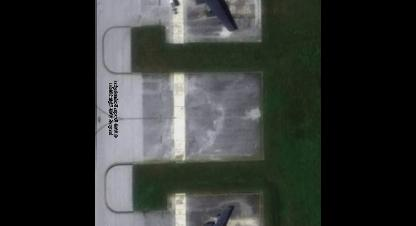B2: (174, 0, 260, 31)
